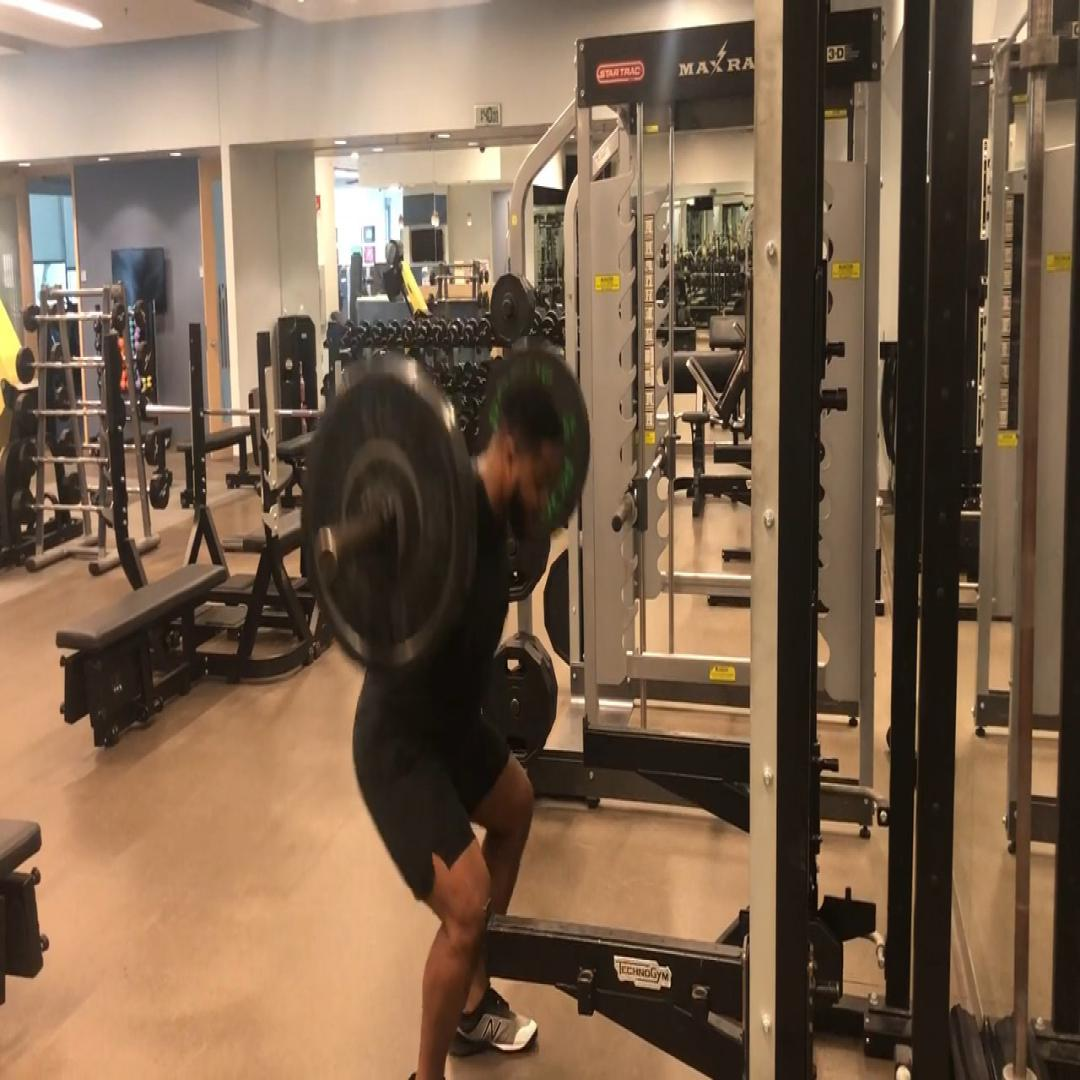Bar: (313, 526, 338, 582)
Barbell: (301, 372, 464, 675)
